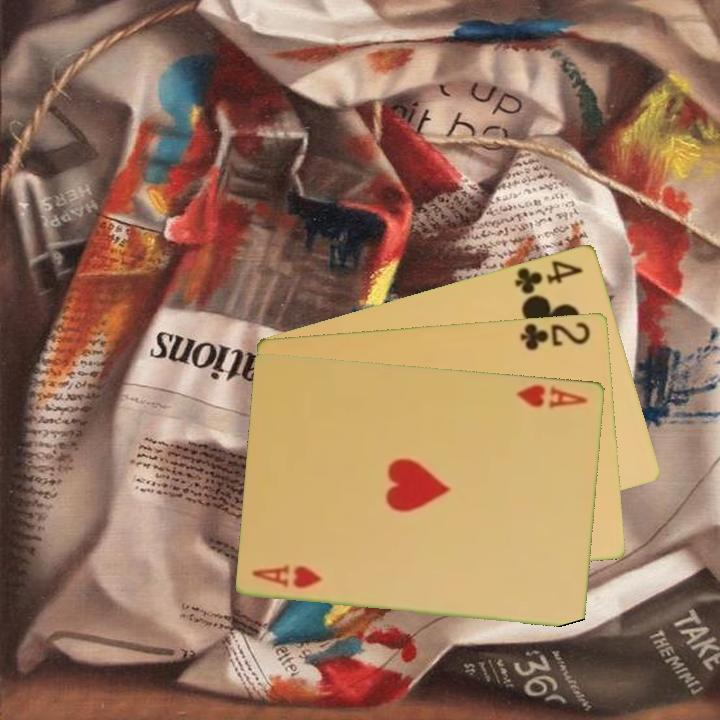2c: (517, 318, 593, 353)
4c: (511, 256, 586, 297)
Ah: (513, 380, 591, 411), (249, 563, 326, 591)
